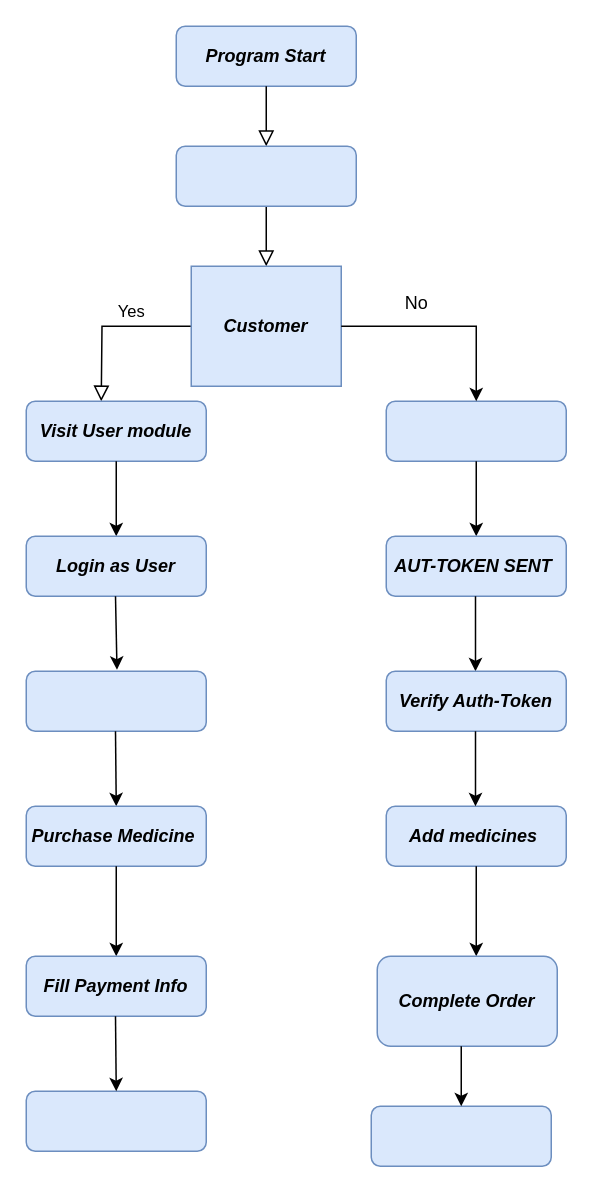
Some shapes in this 593 by 1193 pixel diagram are drawn without their labels. Here are the shapes that lost their labels. From the top down, the box of each, then its label:
(175, 145, 356, 206): Medicart loading
(385, 400, 566, 461): Login as SHOPOWNER
(25, 670, 206, 731): Browse Shops
(25, 1090, 206, 1151): Checkout
(370, 1105, 551, 1166): Order Completed
